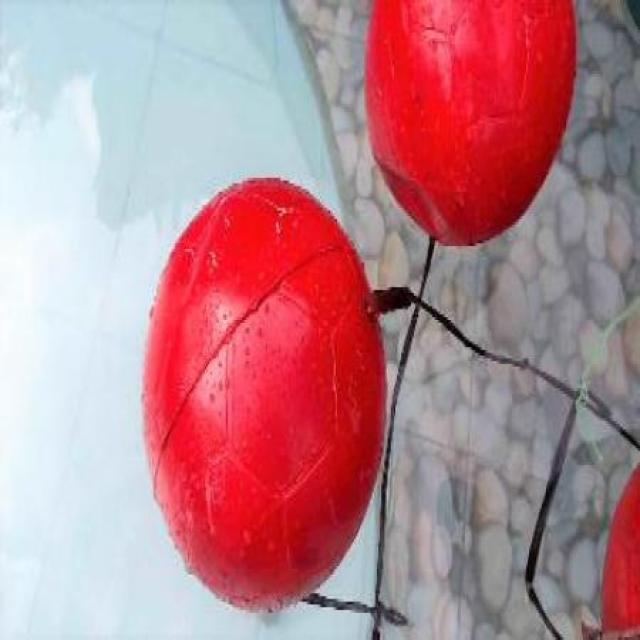buoy: (141, 176, 385, 612), (364, 0, 576, 249)
